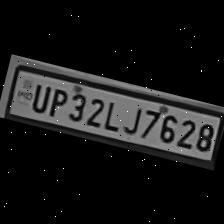2: (80, 92, 108, 128), (172, 114, 198, 150)
3: (62, 87, 89, 123)
6: (153, 109, 179, 145)
7: (135, 104, 160, 140)
8: (190, 118, 216, 153)
J: (119, 100, 144, 136)
L: (100, 96, 125, 132)
P: (44, 83, 68, 119)
U: (25, 78, 52, 114)
